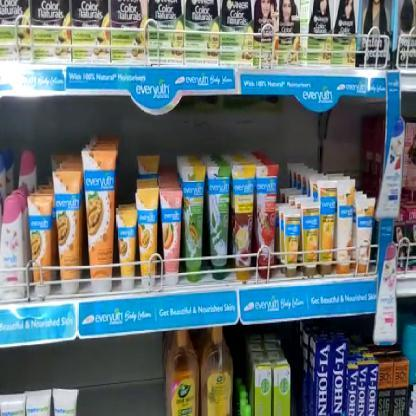Everyuth Naturals Body Lotion Rejuvenating Flora 200ml: (0, 194, 26, 302)
